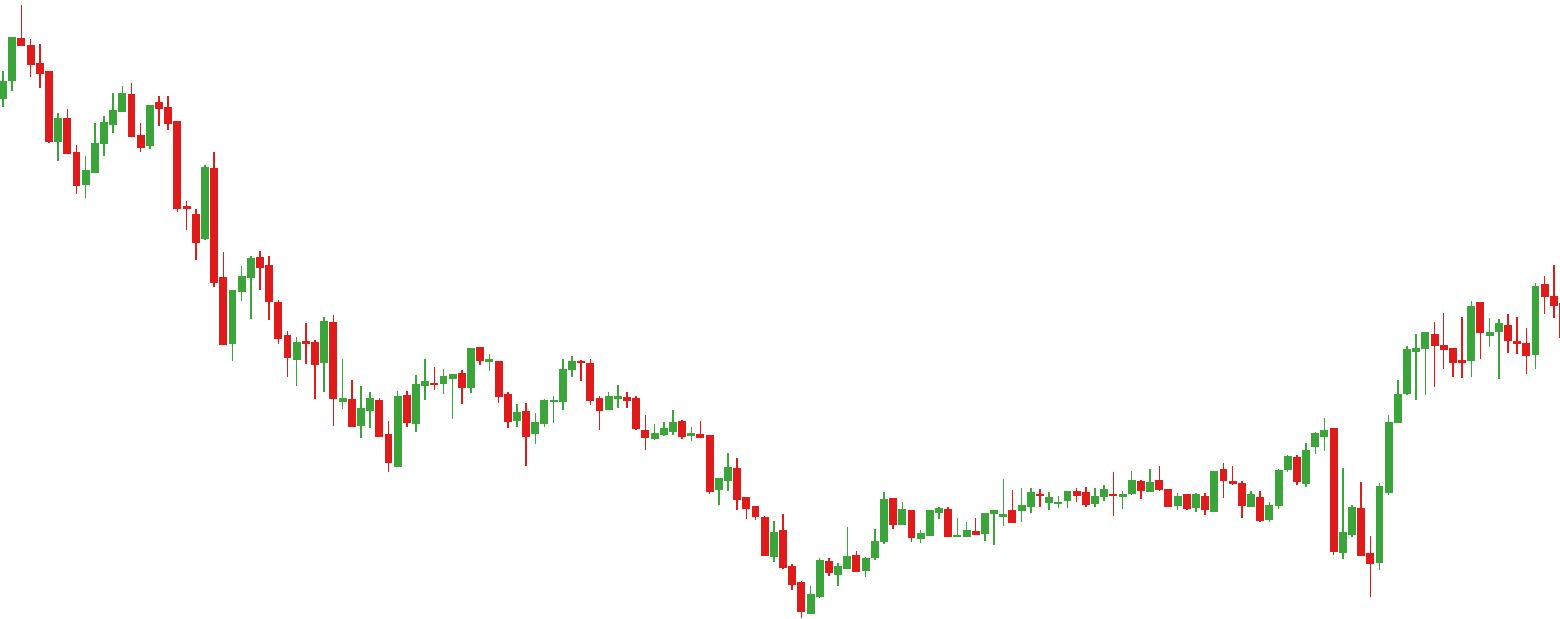buy: (1255, 460, 1358, 566)
sell: (55, 79, 137, 168)
